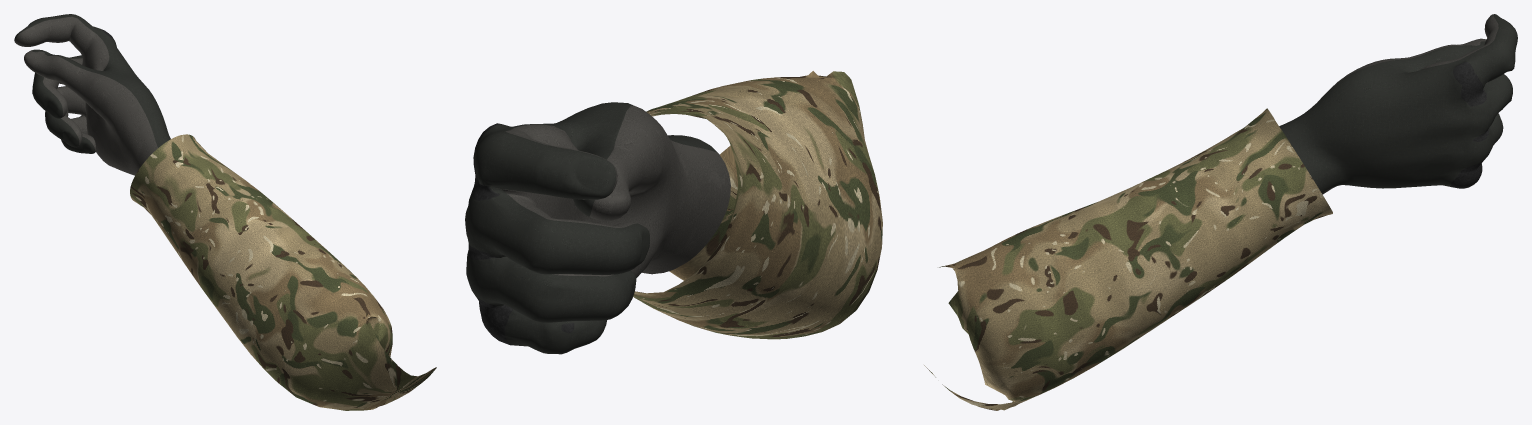
Rendered from hand_r.glb.
The picture shows the model from 3 angles, left to right: view 1: azimuth 30°, elevation 25°; view 2: azimuth 150°, elevation 25°; view 3: azimuth 270°, elevation 25°; orthographic projection. The views are drawn at different scales.
Parts seen in each view (by area): view 1: hand_r; view 2: hand_r; view 3: hand_r.
Boxes of the visible parts, x1,y1,x2,y2 form: hand_r: (14, 14, 436, 410); hand_r: (465, 71, 882, 354); hand_r: (924, 14, 1517, 410).
Size of the model in its own units: 0.1612 by 0.2076 by 0.3587.
Materials: 4 (4 with a texture image).
